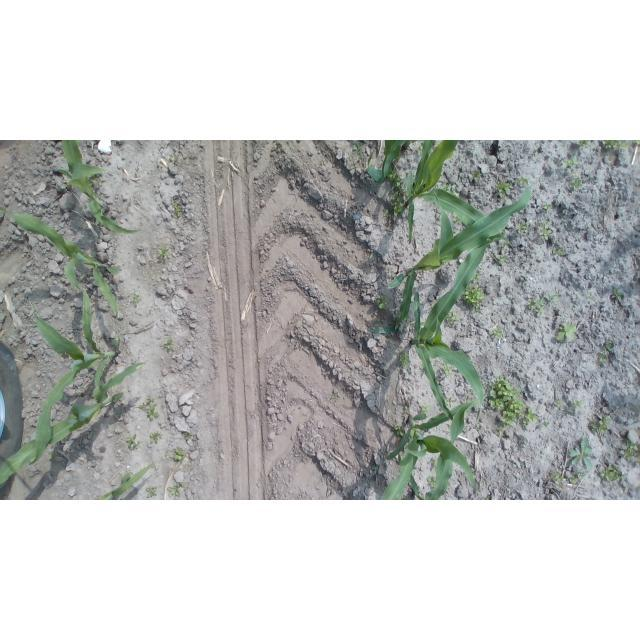Maize: (369, 178, 531, 334), (409, 237, 515, 420), (0, 362, 146, 486), (28, 287, 121, 465), (0, 206, 120, 319), (404, 140, 517, 250), (379, 398, 480, 500), (59, 141, 142, 234), (412, 401, 476, 500), (96, 462, 155, 500), (366, 141, 411, 184)
Weeds: (488, 374, 538, 435), (525, 292, 561, 320), (566, 438, 594, 469), (389, 165, 406, 215), (463, 284, 485, 311), (616, 435, 640, 459), (137, 395, 159, 420), (599, 463, 624, 482), (556, 320, 578, 340), (589, 413, 611, 433), (601, 140, 630, 152), (494, 180, 510, 200), (538, 219, 553, 240), (167, 482, 188, 497), (598, 342, 613, 363), (126, 432, 142, 451), (567, 398, 585, 414), (162, 336, 176, 353), (397, 352, 411, 369), (567, 471, 585, 484), (514, 220, 528, 236), (561, 156, 579, 168), (571, 174, 584, 190), (149, 430, 166, 442), (546, 473, 564, 484), (352, 141, 364, 157), (146, 485, 159, 499), (376, 295, 389, 309), (442, 364, 455, 377), (420, 404, 433, 417), (173, 201, 183, 217), (490, 324, 503, 336), (447, 312, 460, 324), (392, 427, 405, 438), (158, 247, 171, 258), (470, 170, 483, 181), (612, 288, 623, 301), (543, 201, 553, 215), (552, 247, 567, 256), (498, 253, 509, 265), (173, 449, 185, 460), (445, 396, 456, 408), (168, 153, 179, 164), (402, 406, 411, 419), (131, 293, 142, 303), (427, 475, 436, 487), (49, 451, 57, 462), (553, 399, 564, 407), (453, 218, 462, 227), (429, 458, 438, 467), (440, 182, 450, 190), (579, 141, 590, 148), (82, 272, 90, 281), (381, 208, 389, 217), (466, 389, 473, 399), (585, 293, 593, 301), (473, 273, 479, 283), (541, 420, 549, 427), (331, 393, 340, 399), (374, 465, 381, 472), (184, 432, 191, 439), (503, 241, 509, 249), (374, 320, 380, 328), (632, 141, 640, 146), (486, 494, 490, 500), (165, 450, 168, 457)
